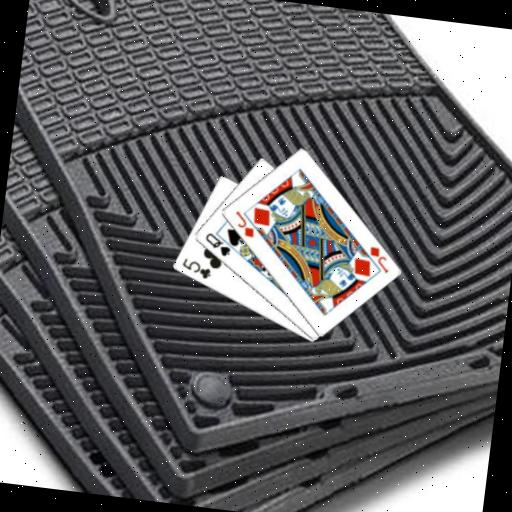5C: (178, 254, 214, 281)
JD: (364, 243, 393, 276), (229, 207, 258, 239)
QS: (200, 229, 234, 259)
